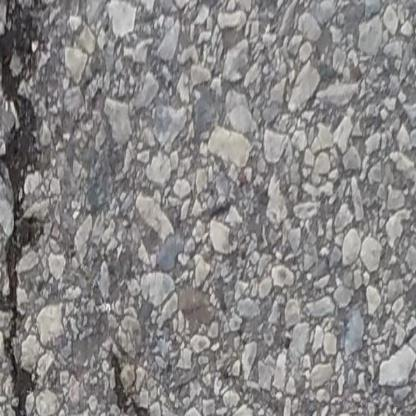Cracks: (0, 0, 64, 416), (111, 351, 162, 416)
